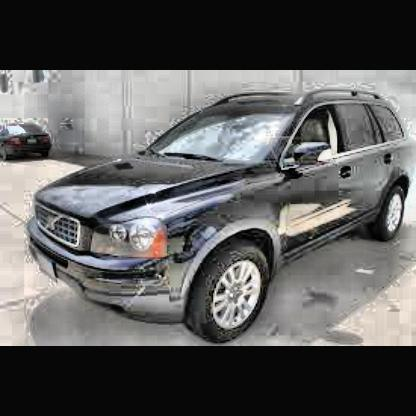Volvo XC90 SUV 2007: (26, 88, 416, 346)
